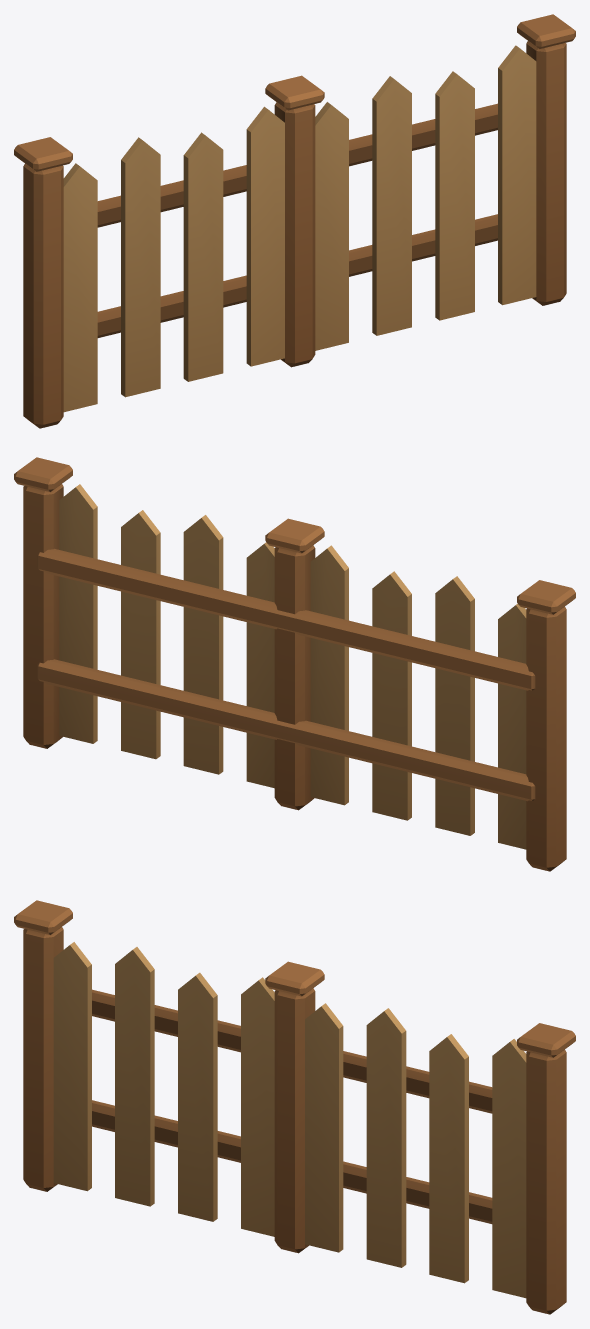
The model's file is pagar.glb.
3 views of the same model, one above another, from view 1: azimuth 30°, elevation 25°; view 2: azimuth 150°, elevation 25°; view 3: azimuth 330°, elevation 25° (orthographic).
Visible parts, largest first — view 1: pagar_mesh; view 2: pagar_mesh; view 3: pagar_mesh.
Boxes of the visible parts, <box> form: pagar_mesh: <box>14,14,575,428</box>; pagar_mesh: <box>14,457,575,871</box>; pagar_mesh: <box>14,900,575,1314</box>.
Size of the model in its own units: 2.16 by 1.04 by 0.16.
